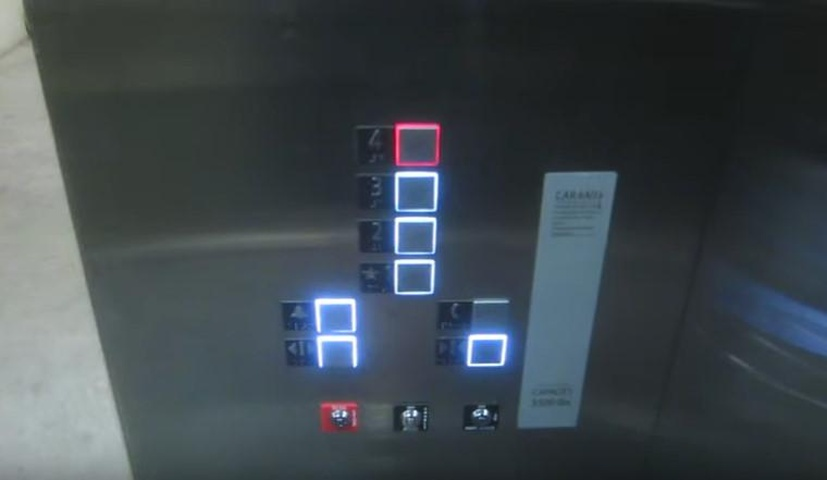2: (357, 217, 397, 256)
3: (353, 172, 394, 211)
4: (353, 124, 394, 168)
alarm: (279, 300, 316, 334)
bt_keyhole: (462, 399, 501, 436), (319, 401, 359, 436), (392, 402, 430, 437)
call: (435, 299, 473, 334)
close: (434, 335, 471, 371)
empty: (394, 122, 441, 167), (393, 170, 440, 215), (393, 214, 439, 256), (393, 258, 435, 296), (314, 297, 356, 335), (316, 335, 358, 373), (470, 299, 512, 337), (466, 331, 508, 369)
open: (283, 338, 316, 369)
s1: (357, 261, 396, 297)
